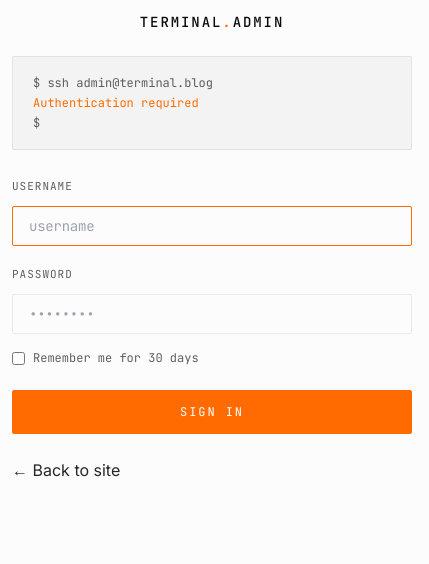
LoginForm › displays error message on failed sign in
Type "admin" into the field with placeholder "Username" at {"x": 212, "y": 226}, box [12,206,412,246]
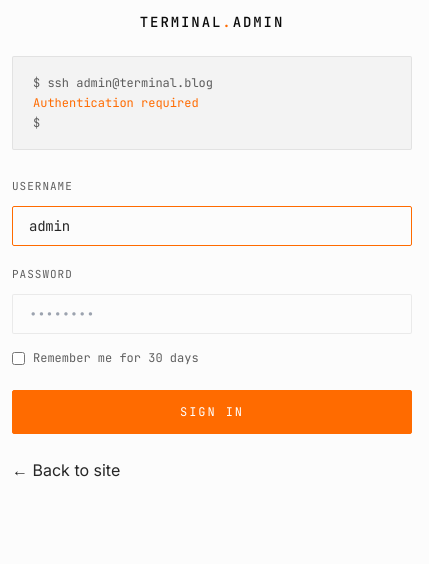
Type "wrongpass" into the password field with placeholder "••••••••" at {"x": 212, "y": 314}, box [12,294,412,334]
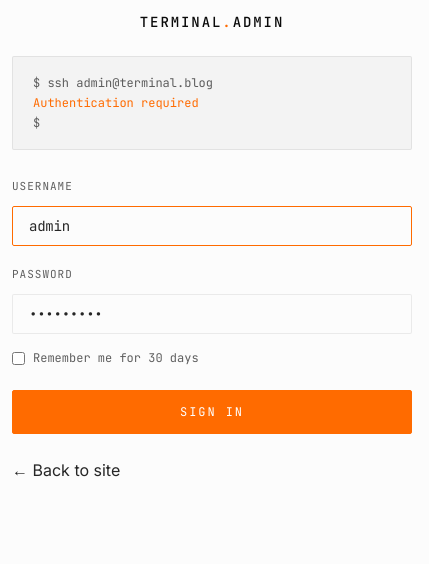
Click the button "Sign in" at {"x": 212, "y": 412}, box [12,390,412,434]
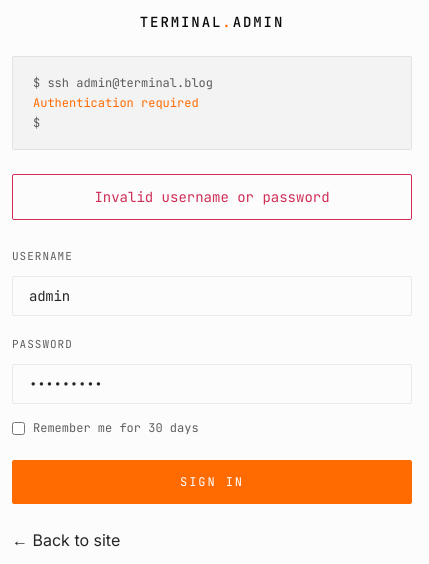
Expected: the text "Invalid username or password" is shown, [12,174,412,220]
